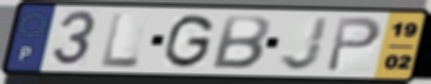3: (48, 8, 98, 70)
B: (208, 14, 273, 71)
G: (161, 13, 217, 71)
J: (277, 15, 332, 73)
L: (99, 10, 142, 69)
P: (324, 15, 385, 74)
